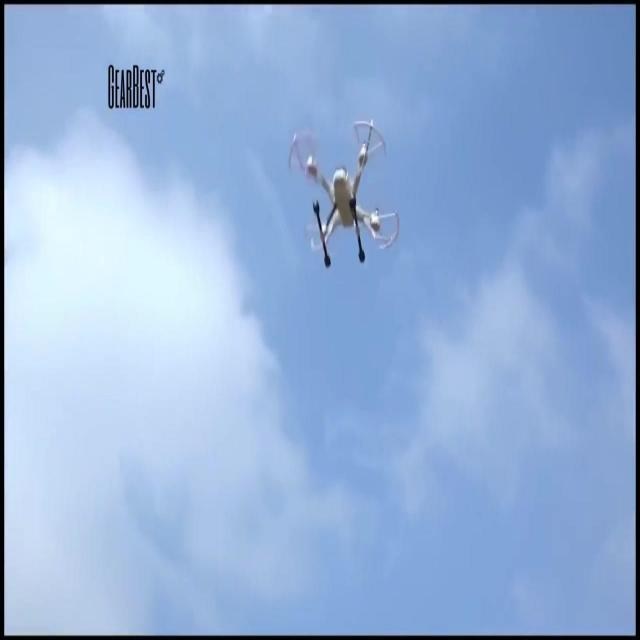UAV: (288, 118, 399, 268)
